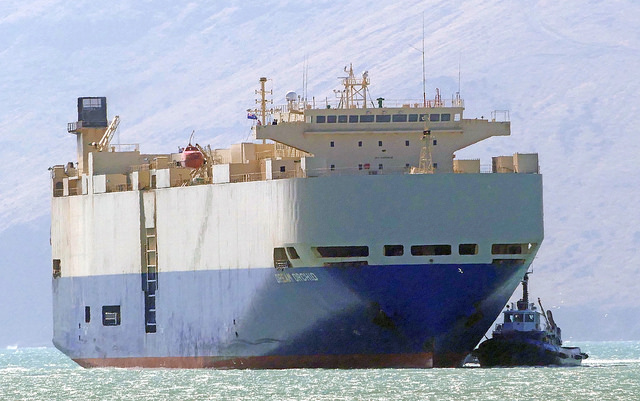PCC: (47, 59, 543, 375)
tug_boat: (474, 275, 592, 369)
